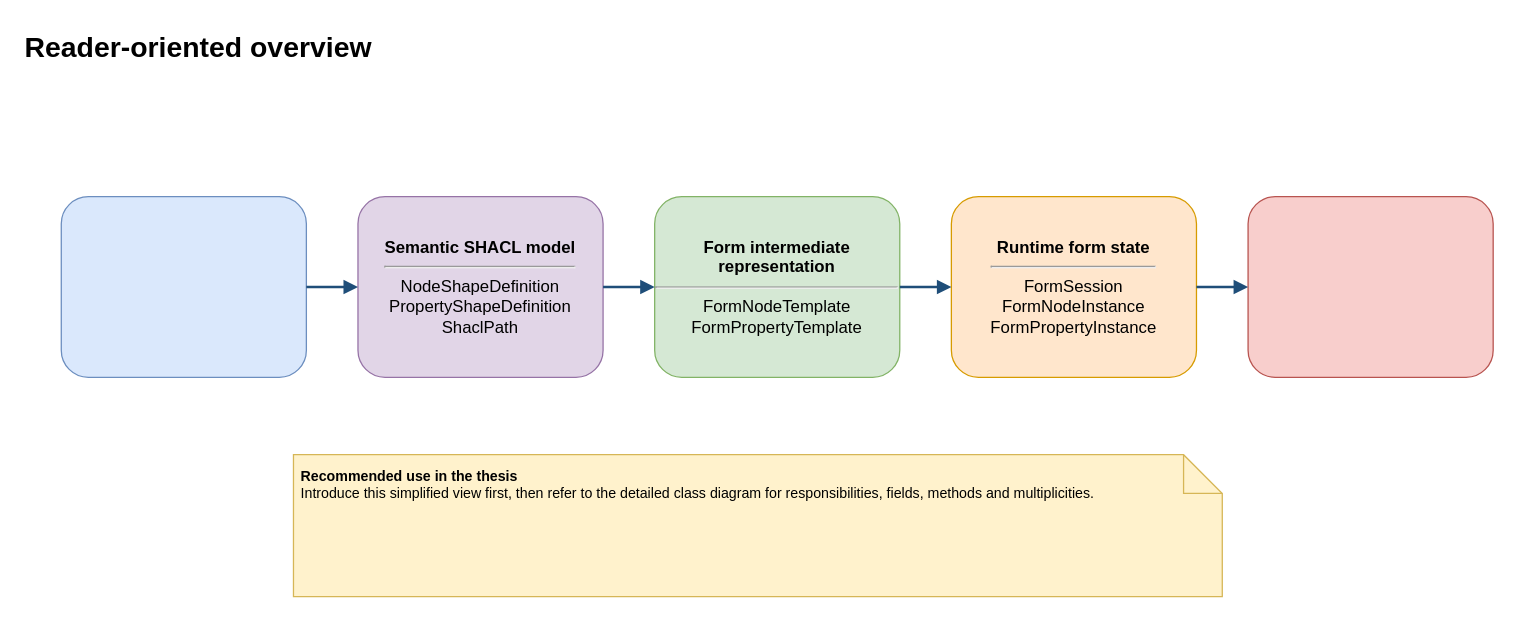
Some shapes in this 1516 by 619 pixel diagram are drawn without their labels. The shapes that lost their labels are listed below. From the top down, each one's centre as x and y in pixels, then its label:
At (x=183, y=286): "SHACL shape graph N3 Store + RDF lists".
At (x=1370, y=286): "UI and RDF output Web Components DataGraphReader / Writer".
